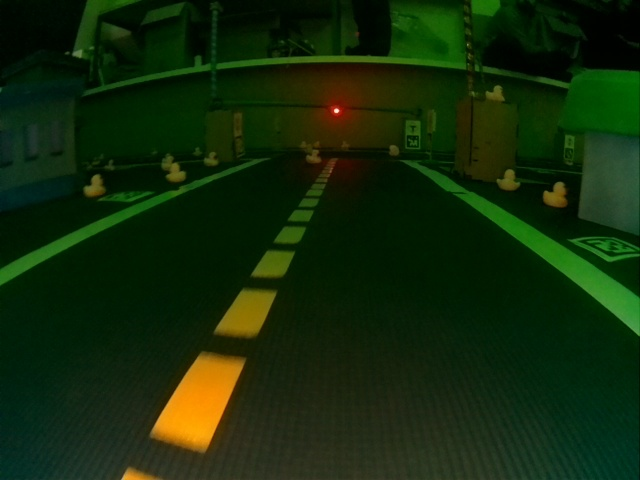Duckie: (543, 182, 570, 208), (496, 169, 521, 190), (83, 174, 105, 195), (484, 85, 505, 101), (166, 164, 184, 180), (161, 157, 174, 169), (307, 150, 320, 161), (204, 153, 214, 166), (390, 145, 399, 154), (341, 142, 350, 150)
Intersection sign: (406, 121, 419, 134)
QR code: (570, 236, 637, 260), (405, 137, 418, 149)
Traffic light: (330, 105, 343, 116)
